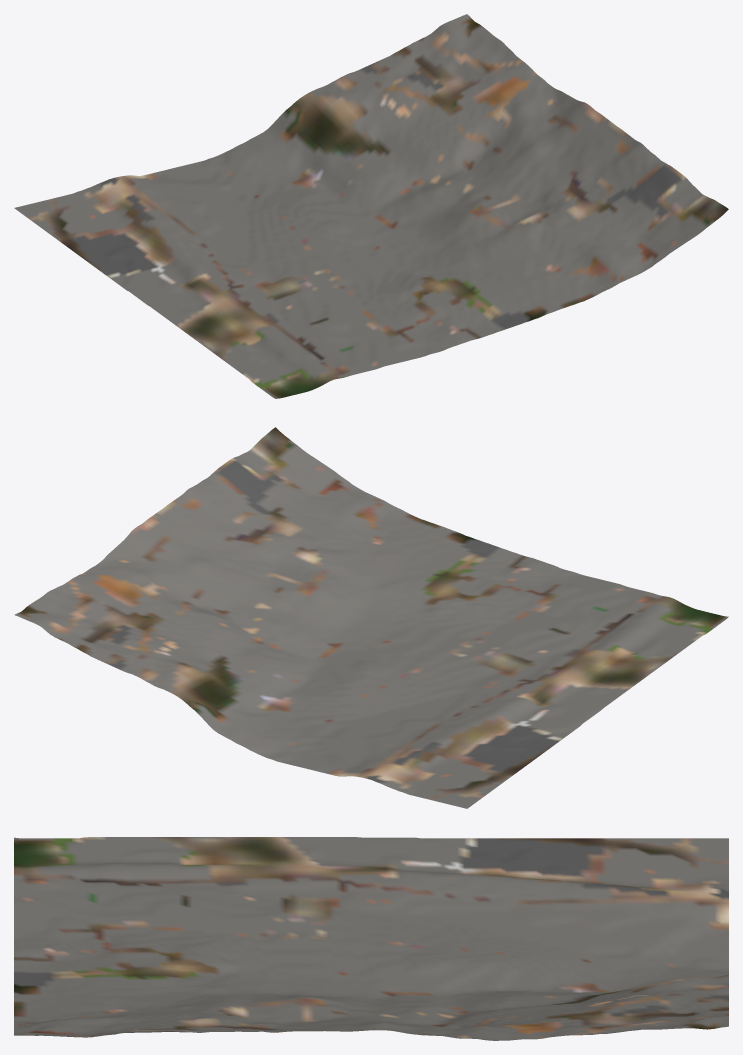
Rendered from terrain.glb.
3 renders of one model, top to bottom at view 1: azimuth 30°, elevation 25°; view 2: azimuth 150°, elevation 25°; view 3: azimuth 270°, elevation 25°, orthographic. The views are drawn at different scales.
Visible parts, largest first — view 1: T_W1_N2_terrain; view 2: T_W1_N2_terrain; view 3: T_W1_N2_terrain.
Boxes of the visible parts, bbox=[...] form: T_W1_N2_terrain: bbox=[14, 14, 728, 398]; T_W1_N2_terrain: bbox=[14, 427, 728, 808]; T_W1_N2_terrain: bbox=[14, 837, 728, 1040].
Size of the model in its own units: 500 by 87.89 by 500.
